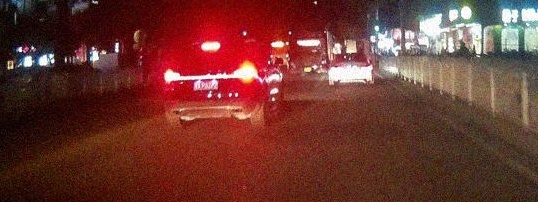L_light: (164, 70, 181, 82)
R_light: (235, 65, 258, 79)
T_light: (201, 42, 219, 50)
night-right: (163, 40, 259, 127)
